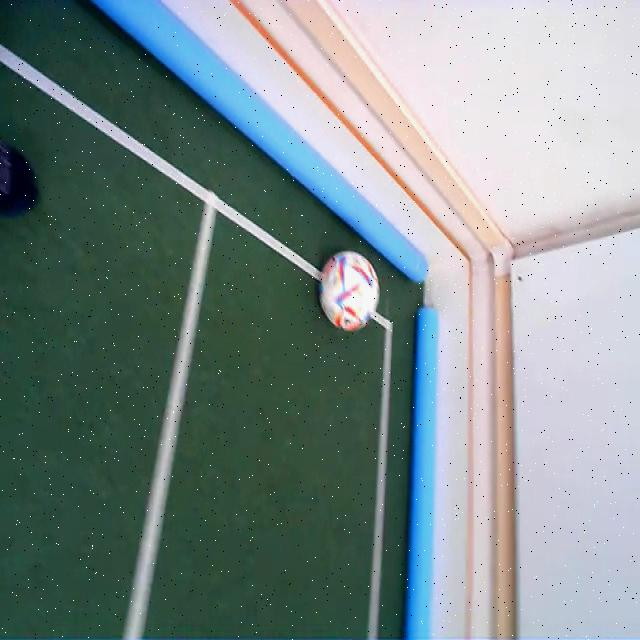ball: (319, 251, 381, 331)
